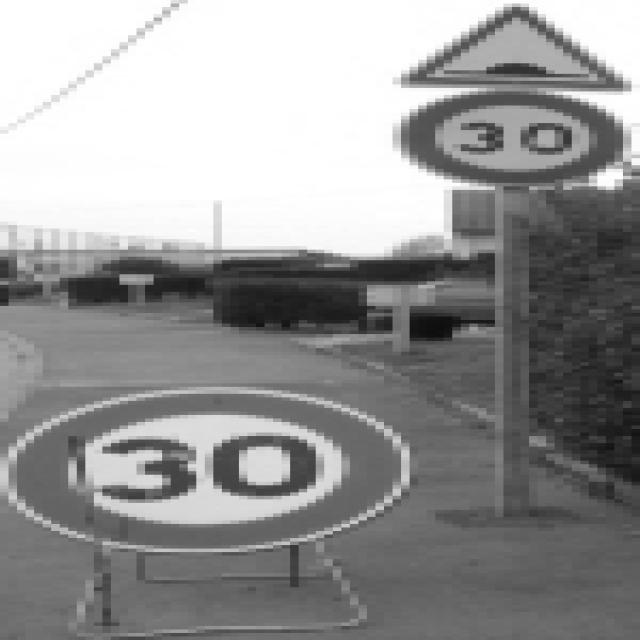danger: (356, 3, 623, 92)
speed_30: (0, 387, 417, 553), (393, 88, 640, 194)
